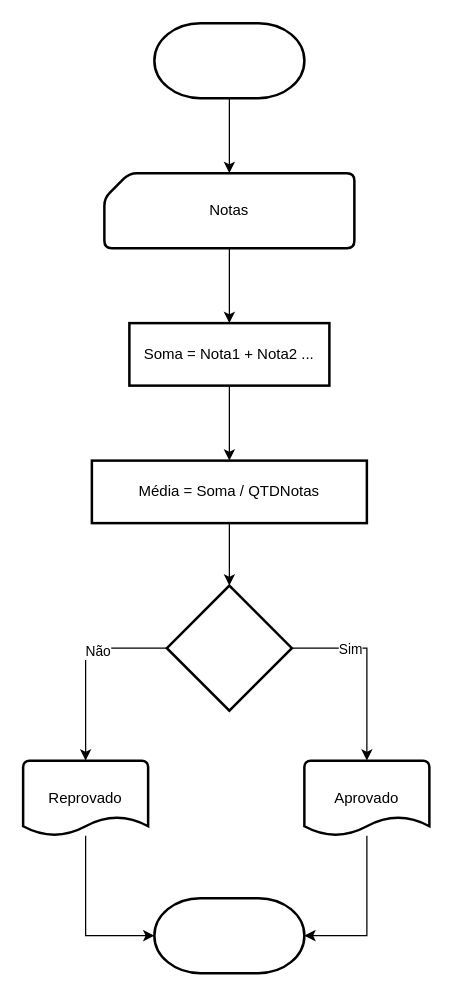
The diagram is 451 pixels wide and 995 high, and some of its shapes have lost their labels. The shapes that lost their labels are listed below. From the top down, each one's centre as x and y in pixels, then its label:
(228,60): Início
(228,647): Média >= 7?
(228,935): Fim
